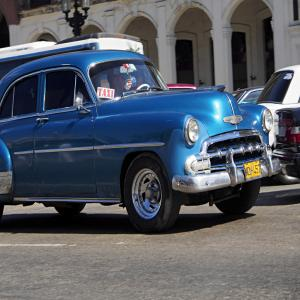Vehicle-registration-plate: (246, 159, 263, 182)
